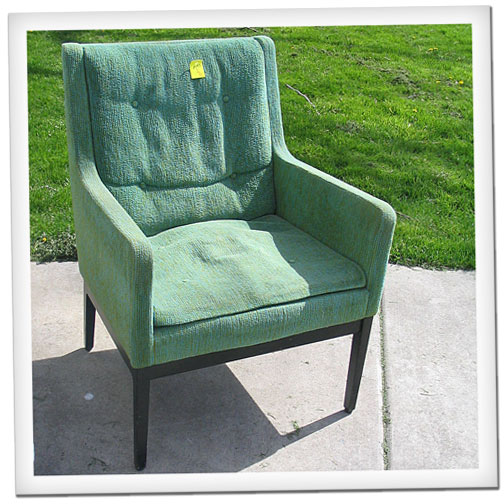chair: (44, 38, 420, 470)
